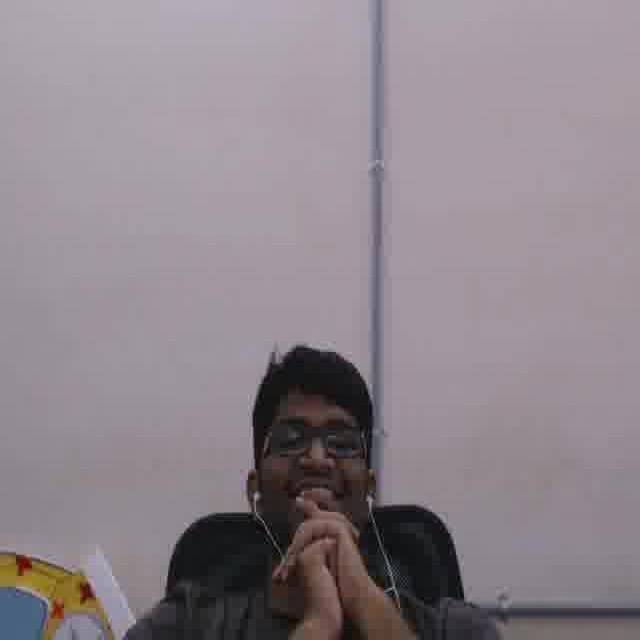Engaged: (260, 384, 355, 540)
